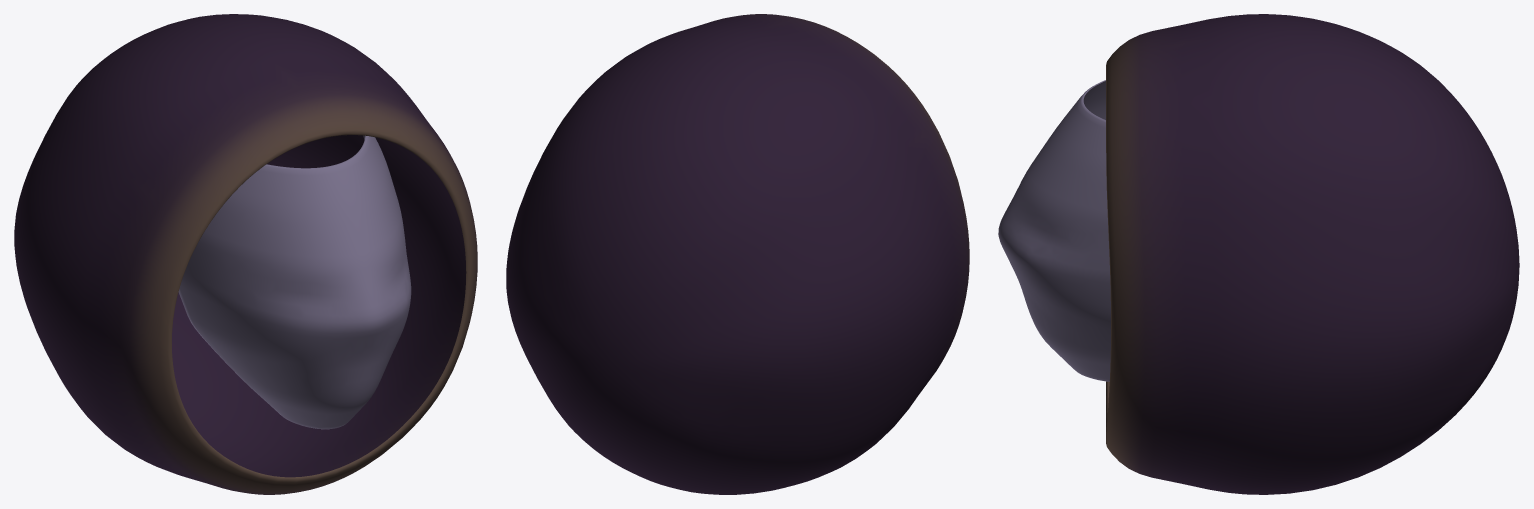
The model's file is wuling-head-7574d0711c97.glb.
3 views of the same model, side by side, from view 1: azimuth 30°, elevation 25°; view 2: azimuth 150°, elevation 25°; view 3: azimuth 270°, elevation 25° (orthographic). The views are drawn at different scales.
Parts seen in each view (by area): view 1: SM_Hero_wuling_DrapedHood_A, SM_Hero_wuling_FullMask_A; view 2: SM_Hero_wuling_DrapedHood_A; view 3: SM_Hero_wuling_DrapedHood_A, SM_Hero_wuling_FullMask_A.
Part boxes in pixels (x1,y1,x2,y2): SM_Hero_wuling_DrapedHood_A: [14, 14, 477, 494]; SM_Hero_wuling_FullMask_A: [178, 135, 411, 429]; SM_Hero_wuling_DrapedHood_A: [506, 14, 969, 494]; SM_Hero_wuling_DrapedHood_A: [1106, 14, 1519, 494]; SM_Hero_wuling_FullMask_A: [998, 80, 1110, 381].
Bounding box in the file's own units: 0.3311 × 0.3543 × 0.3797.
